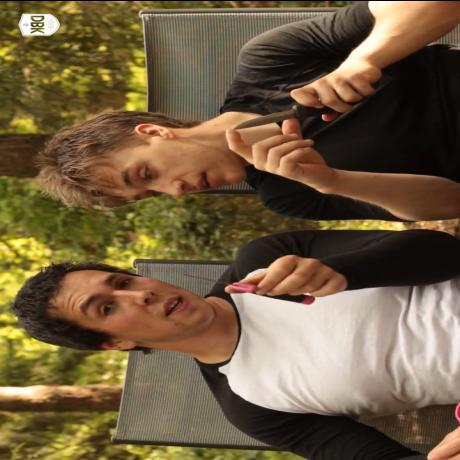1: (9, 226, 460, 460), (34, 0, 460, 222)
weapon: (232, 97, 361, 130), (184, 273, 316, 305)
